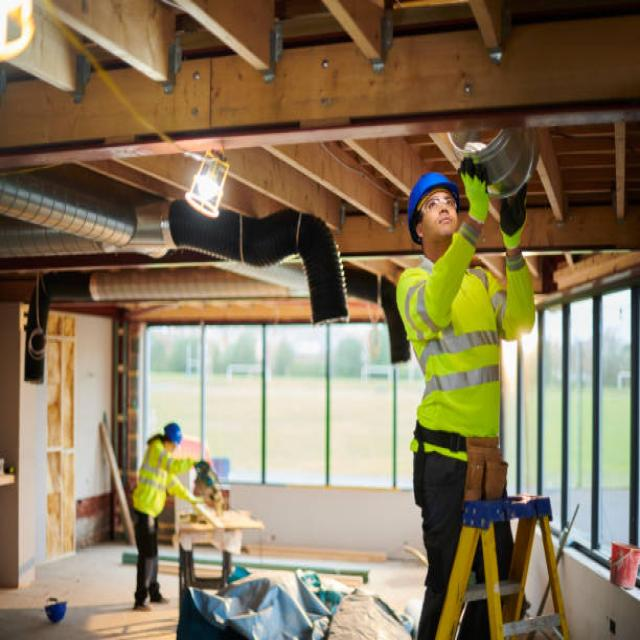gloves: (496, 184, 530, 254), (460, 151, 491, 227)
